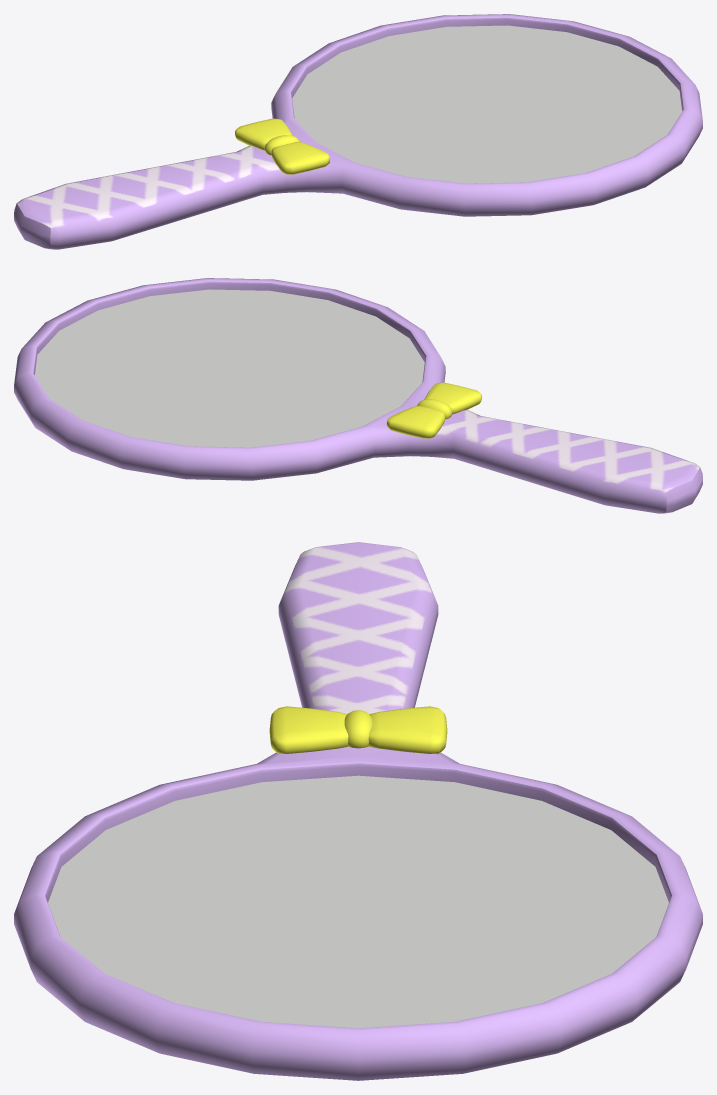
Rendered from mirror.fbx.
3 views of the same model, one above another, from view 1: azimuth 30°, elevation 25°; view 2: azimuth 150°, elevation 25°; view 3: azimuth 270°, elevation 25° (orthographic). The views are drawn at different scales.
Visible parts, largest first — view 1: mirror5; view 2: mirror5; view 3: mirror5.
Boxes of the visible parts, left/top/right/bottom form: mirror5: left=14, top=14, right=702, bottom=249; mirror5: left=14, top=278, right=702, bottom=513; mirror5: left=14, top=542, right=702, bottom=1080.
Size of the model in its own units: 8.73 by 0.5603 by 5.02.
1 material, 1 textured.
